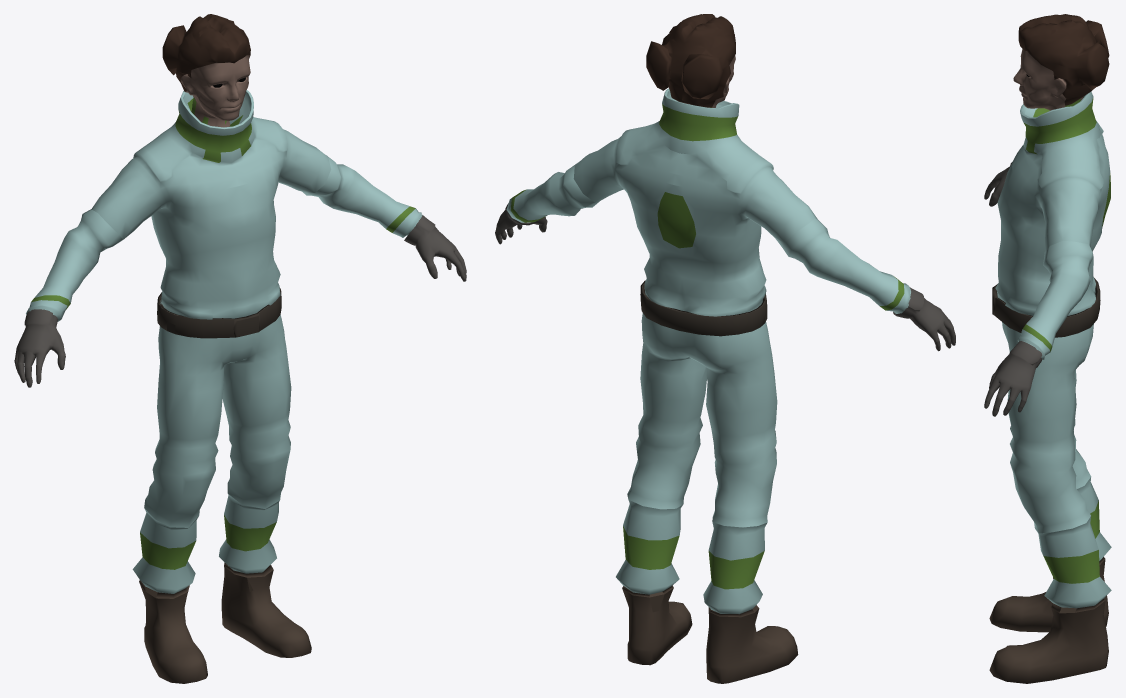
The model's file is character3.fbx.
3 renders of one model, left to right at view 1: azimuth 30°, elevation 25°; view 2: azimuth 150°, elevation 25°; view 3: azimuth 270°, elevation 25°, orthographic.
Visible parts, largest first — view 1: char3; view 2: char3; view 3: char3.
Boxes of the visible parts, x1,y1,x2,y2 form: char3: (14,14,466,683); char3: (495,14,955,683); char3: (984,14,1111,683).
Bounding box in the file's own units: 108 × 146 × 26.71.
